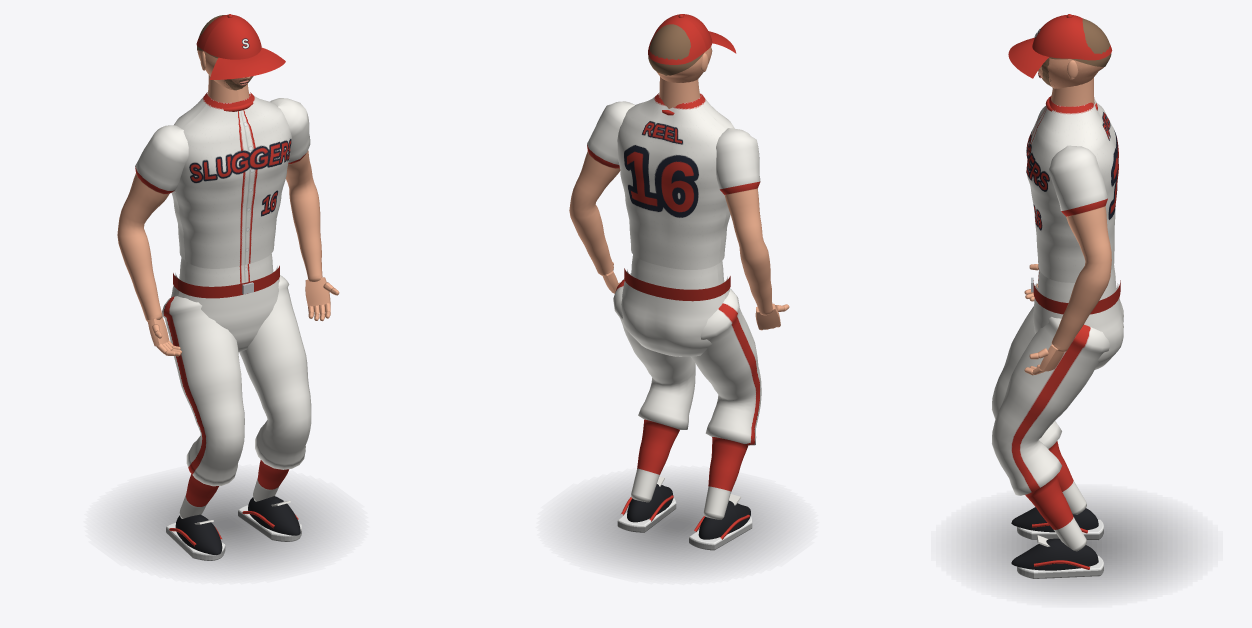
Rendered from player_11_home.glb.
3 renders of one model, left to right at view 1: azimuth 30°, elevation 25°; view 2: azimuth 150°, elevation 25°; view 3: azimuth 270°, elevation 25°, orthographic. The views are drawn at different scales.
Visible parts, largest first — view 1: player_11_home, object 30, object 32, object 2; view 2: player_11_home, object 29, object 30, object 2, object 34; view 3: player_11_home, object 30, object 34, object 32, object 29, object 2.
Boxes of the visible parts, x1=… form: player_11_home: x1=117, y1=92, x2=334, y2=570; object 30: x1=196, y1=14, x2=261, y2=59; object 32: x1=209, y1=47, x2=285, y2=79; object 2: x1=207, y1=75, x2=249, y2=102; player_11_home: x1=569, y1=93, x2=785, y2=570; object 29: x1=648, y1=24, x2=704, y2=75; object 30: x1=648, y1=14, x2=712, y2=64; object 2: x1=659, y1=77, x2=700, y2=108; object 34: x1=652, y1=46, x2=712, y2=82; player_11_home: x1=966, y1=95, x2=1187, y2=592; object 30: x1=1032, y1=14, x2=1112, y2=60; object 34: x1=1038, y1=58, x2=1103, y2=88; object 32: x1=1008, y1=37, x2=1049, y2=78; object 29: x1=1049, y1=18, x2=1111, y2=66; object 2: x1=1051, y1=77, x2=1094, y2=106.
Size of the model in its own units: 3.3 by 6.1 by 3.3.
26 materials, 5 textured.
